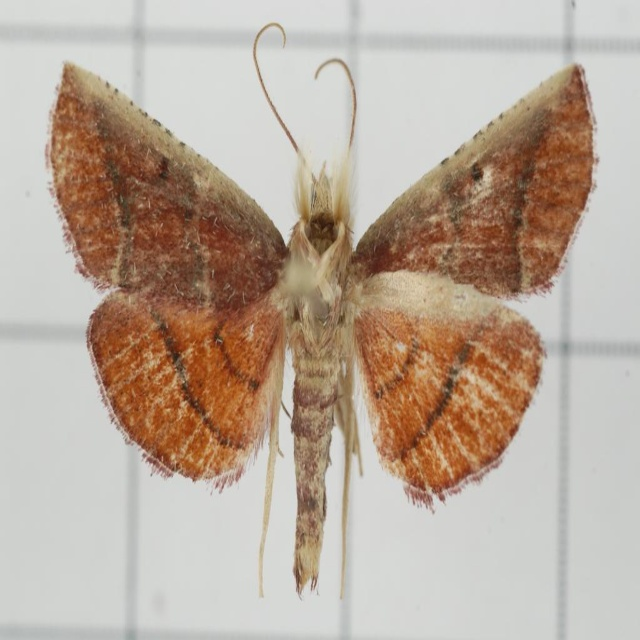Butterfly: (44, 24, 597, 601)
